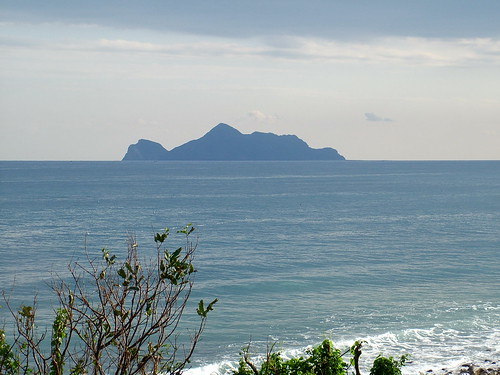turtleIslandLeft: (120, 123, 347, 163)
